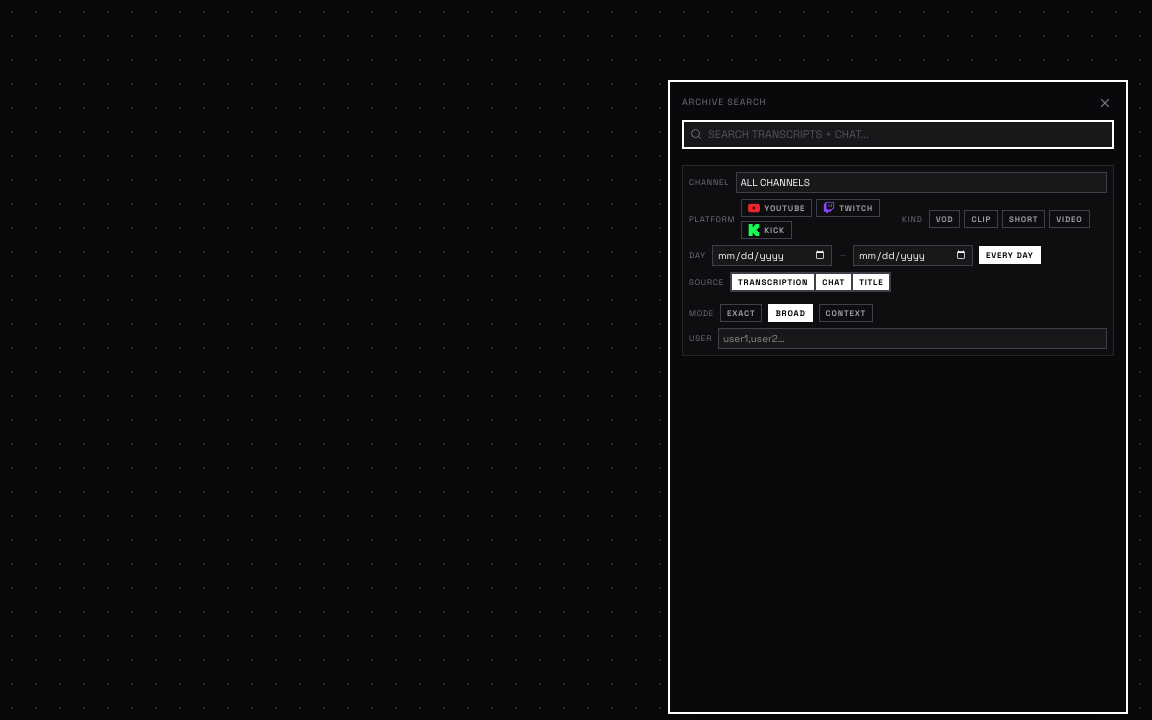
Test case: ArchiveSearchPopup › kind badges: transcript → transcription, message → chat; title stays as-is
Type "zebra" into the field with placeholder "SEARCH TRANSCRIPTS + CHAT..." at (907, 134), box x1=708 y1=122 x2=1106 y2=146
Wait 251 ms
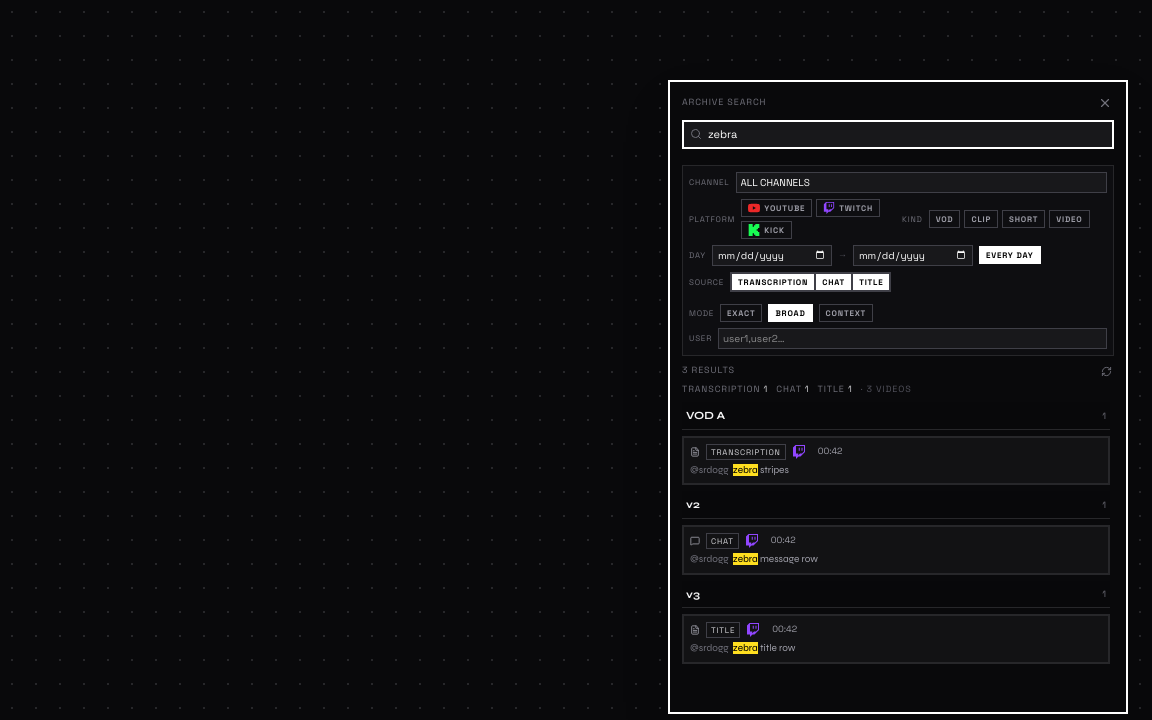
Result: the text "transcription" is shown at x1=706 y1=444 x2=786 y2=460
Result: the text "chat" is shown at x1=706 y1=533 x2=739 y2=549
Result: the text "title" is shown at x1=706 y1=622 x2=740 y2=638
